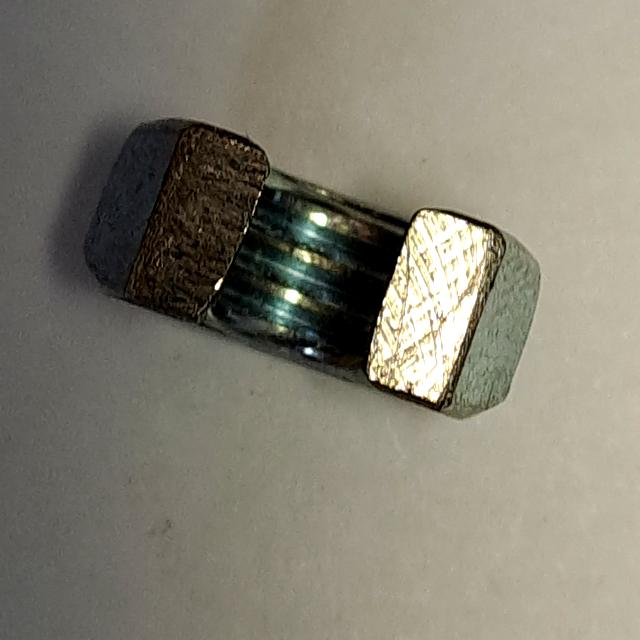Side-Fracture: (62, 104, 553, 444)
